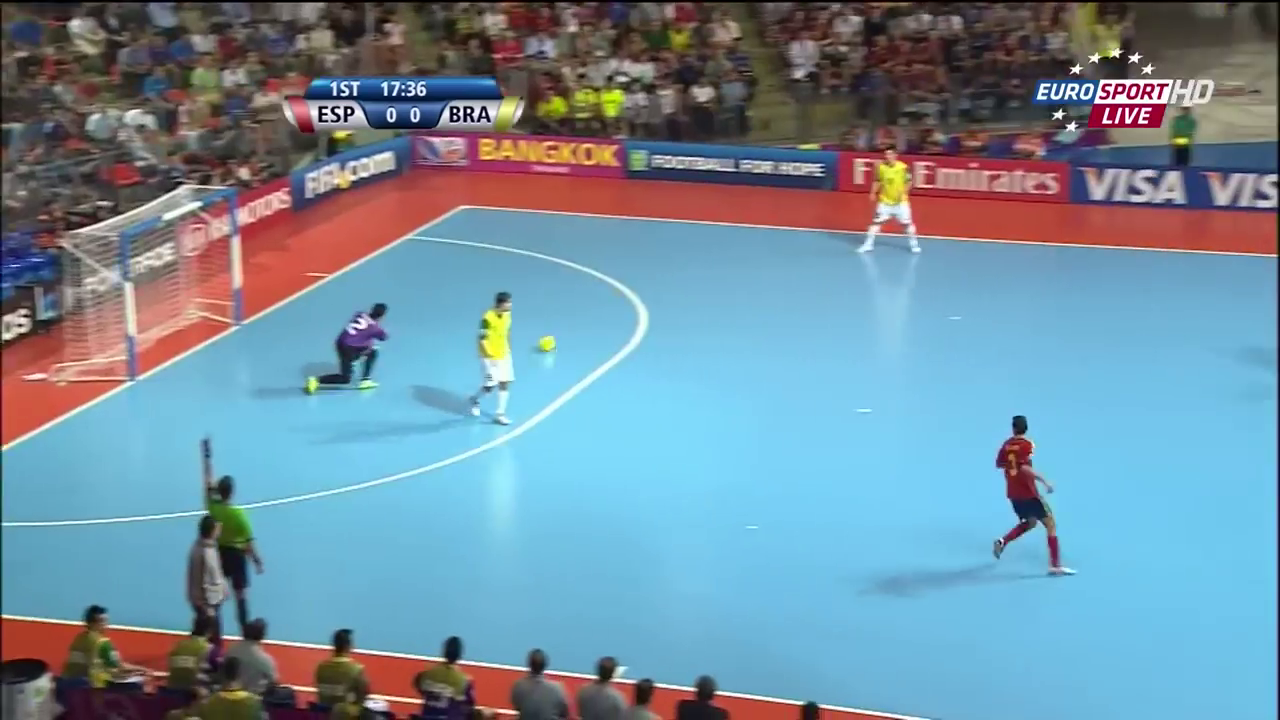ball: (536, 329, 554, 351)
person: (986, 410, 1074, 573), (854, 145, 927, 258), (309, 294, 389, 393), (469, 289, 519, 425)
